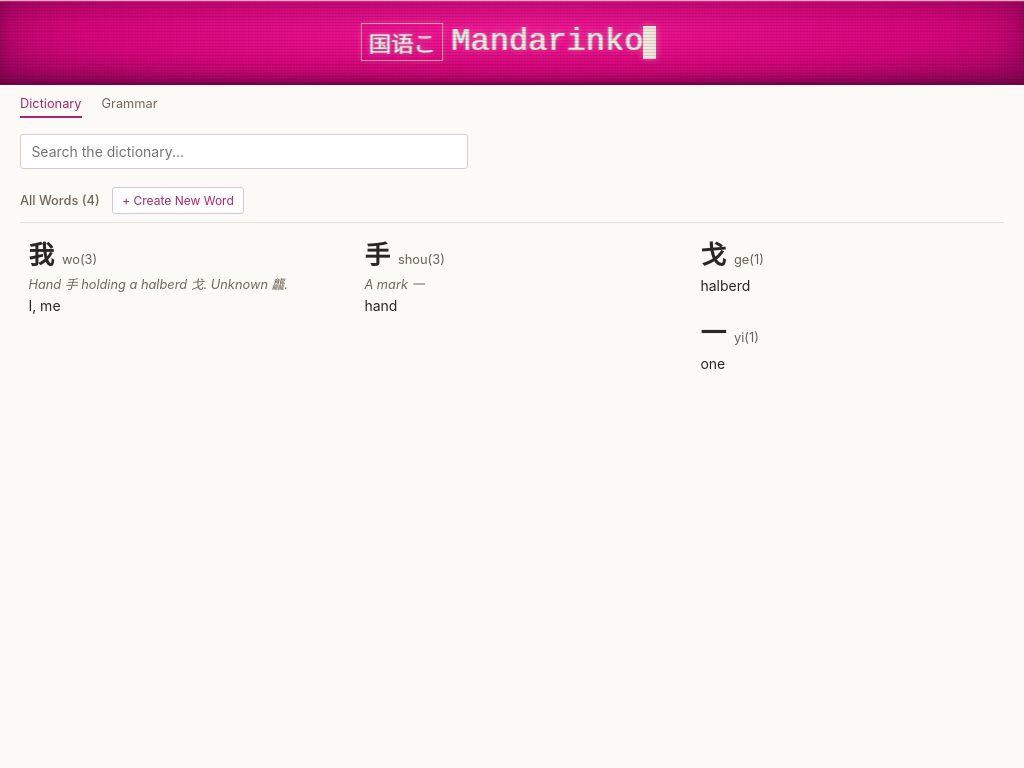
dictionary dialog sessions › does not validate an untouched draft on blur and closes with the first click
This screenshot has width=1024, height=768.
Click the button "+ Create New Word" at (178, 200), box [112,187,244,214]
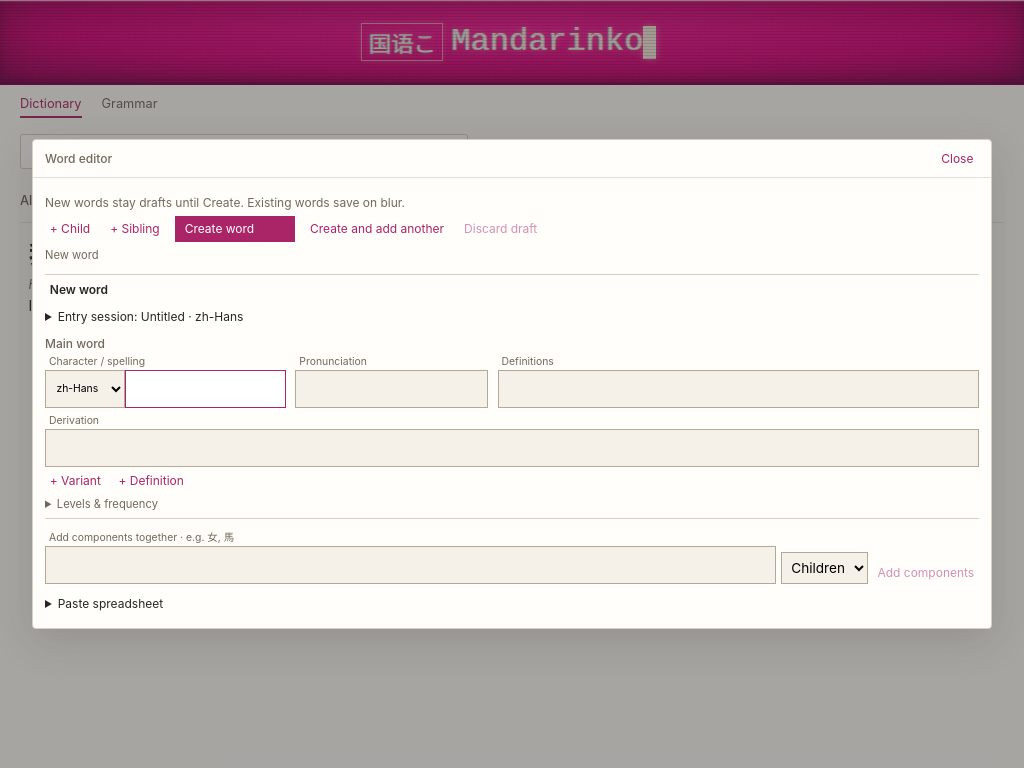
Leave the dropdown named "Main word: Spelling 1", box [125,370,286,408]
Click the button "Close" at (957, 159), box [936,148,979,169]
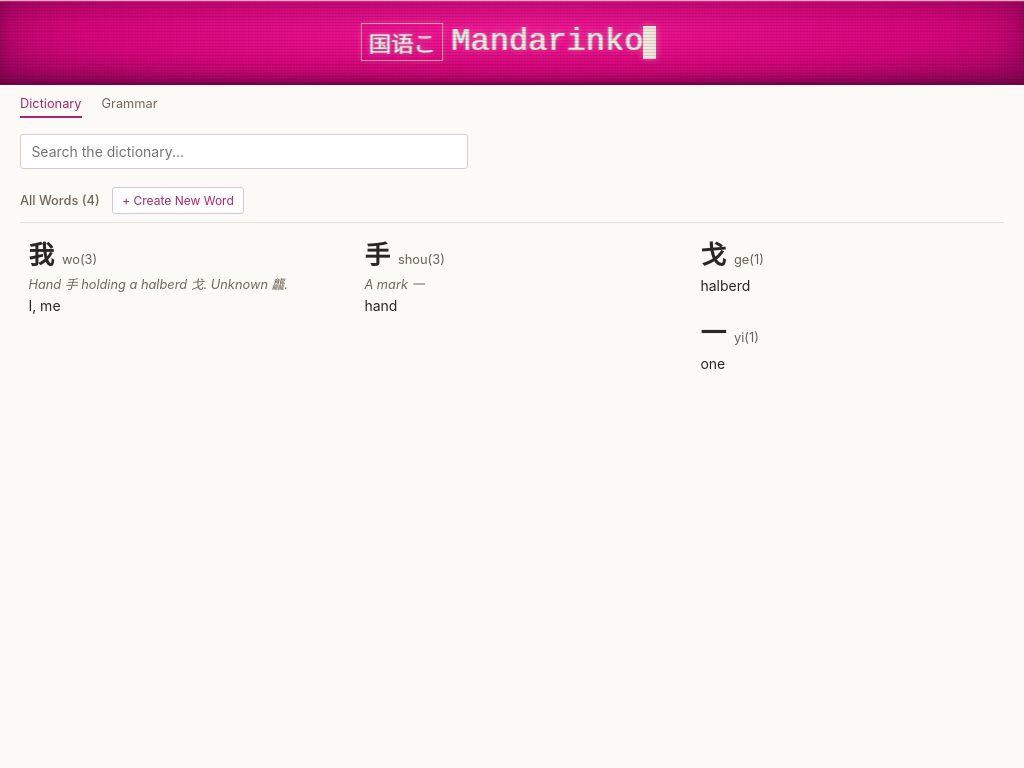
Expected: the dialog is gone
